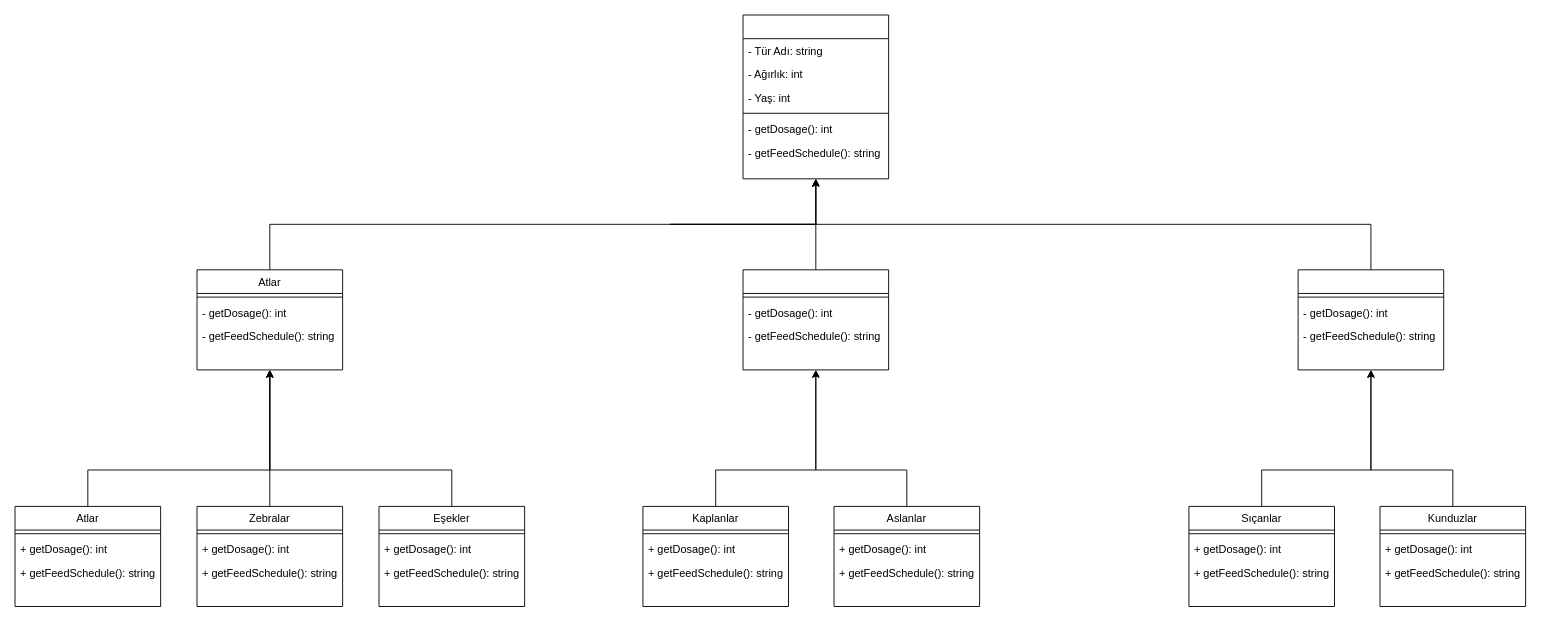
Image size: 1541x622. Some labels were removed from this diagram. Each missing label, with the box of its shape:
Hayvanlar: (742, 14, 889, 179)
Kedigiller: (742, 269, 889, 370)
Kemirgenler: (1297, 269, 1444, 370)
